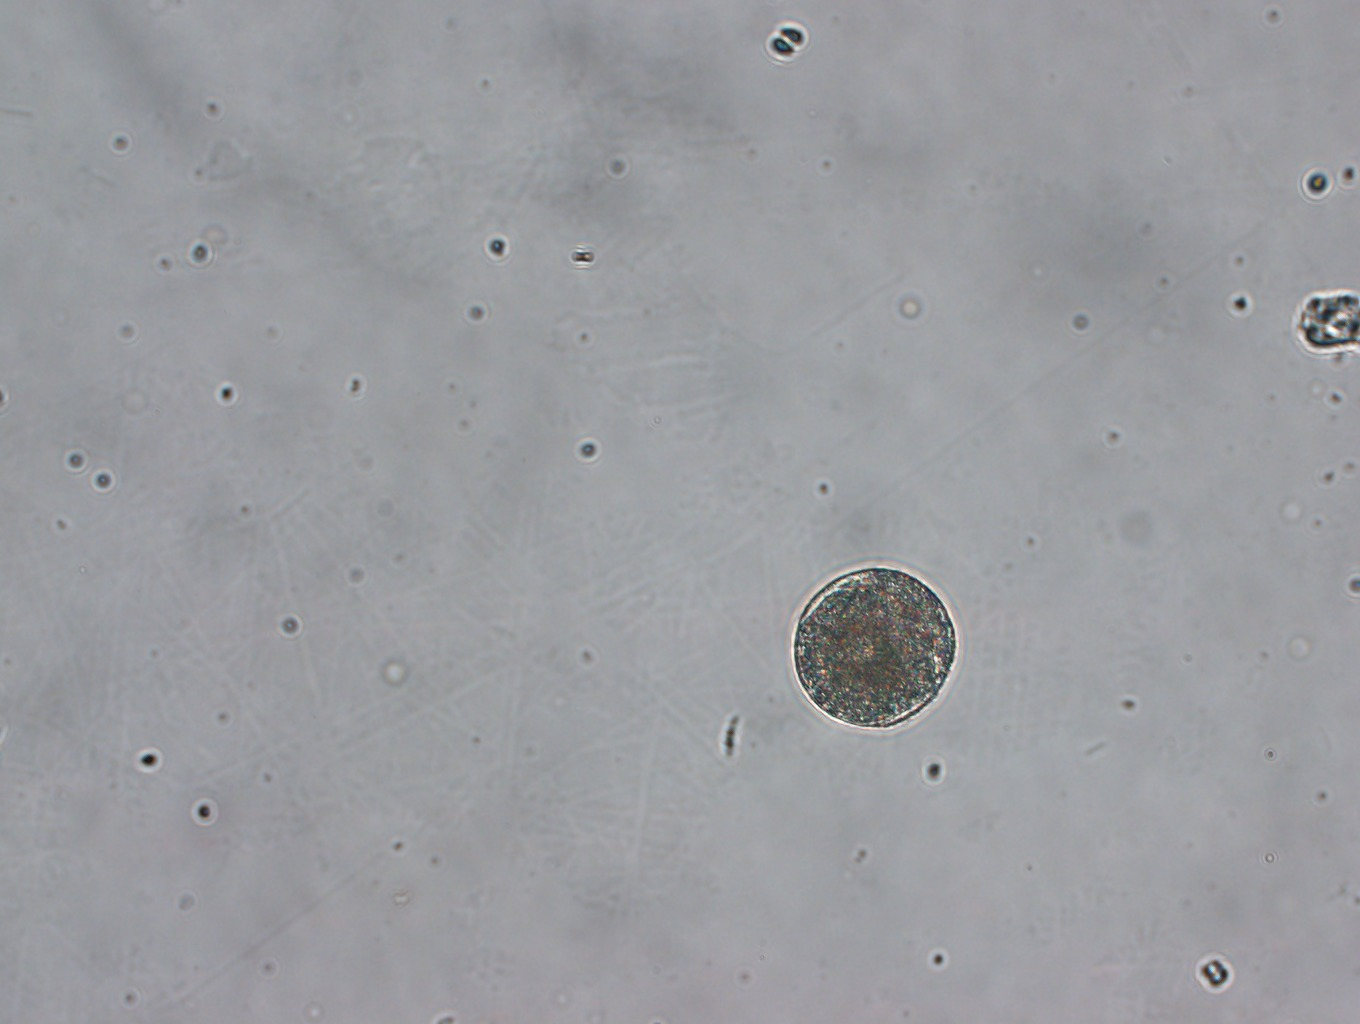coscinodiscus: (786, 558, 963, 734)
